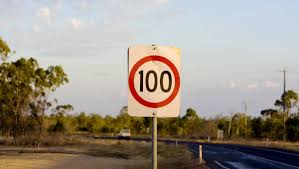Speed_limit_100km: (128, 55, 180, 108)
